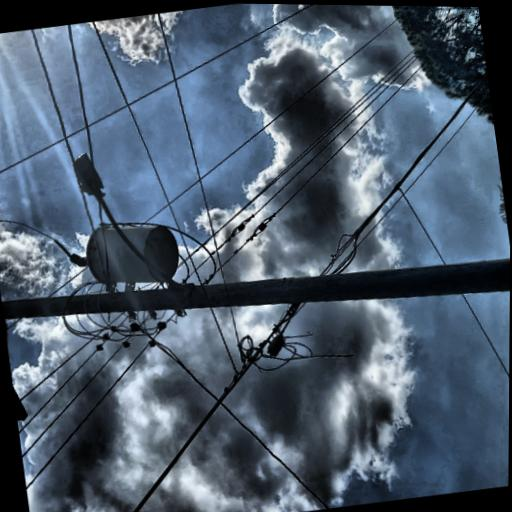insulator: (161, 29, 177, 47), (45, 103, 59, 119), (0, 135, 6, 151)
pole: (30, 95, 159, 512)
street light: (100, 215, 251, 354)
transformer: (109, 227, 184, 341)
